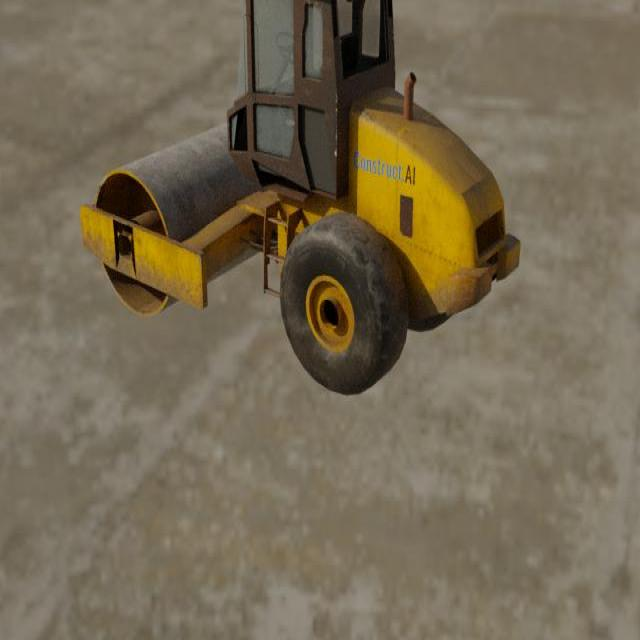Roller: (79, 0, 521, 397)
